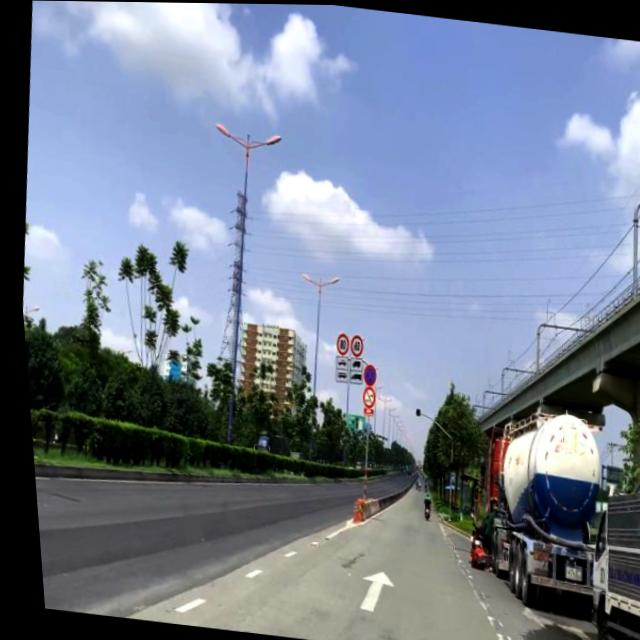Cam dung xe va do xe: (355, 362, 372, 386)
Toc do toi da cho phep: (343, 332, 360, 356), (329, 331, 345, 355)
